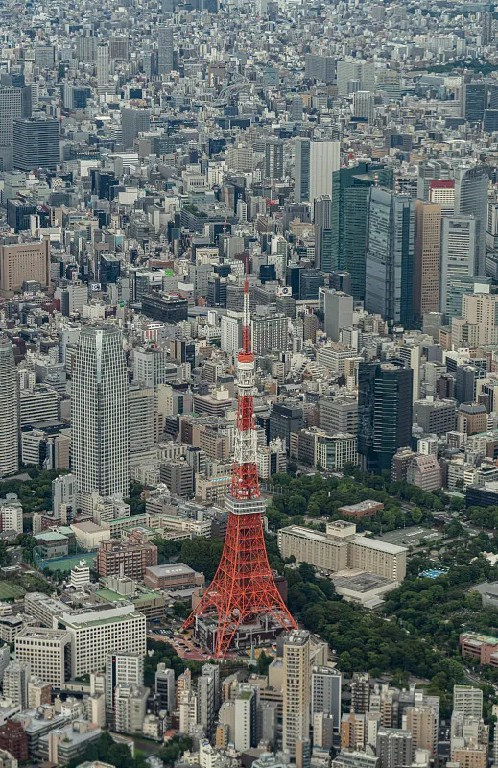Tokyo: (182, 252, 301, 659)
